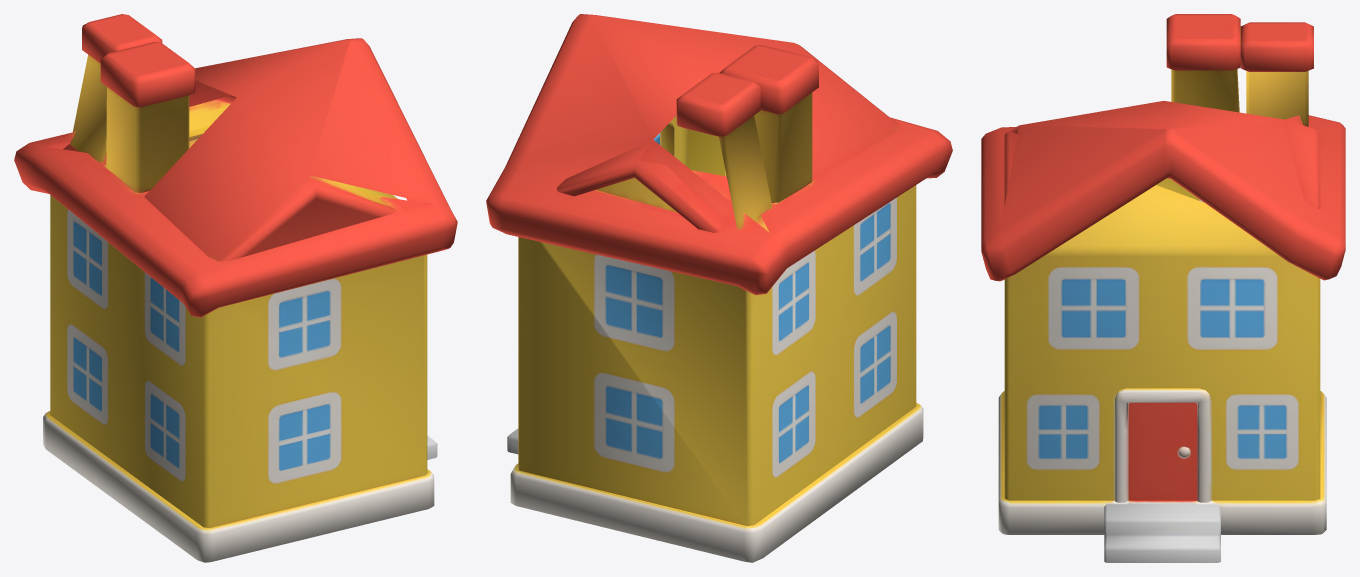
The model's file is house.glb.
The picture shows the model from 3 angles, left to right: view 1: azimuth 30°, elevation 25°; view 2: azimuth 150°, elevation 25°; view 3: azimuth 270°, elevation 25°; orthographic projection. The views are drawn at different scales.
Parts seen in each view (by area): view 1: tripo_node_265a9b85-95d6-4634-a093-464790f351dc; view 2: tripo_node_265a9b85-95d6-4634-a093-464790f351dc; view 3: tripo_node_265a9b85-95d6-4634-a093-464790f351dc.
Part boxes in pixels (bbox=[...]): tripo_node_265a9b85-95d6-4634-a093-464790f351dc: bbox=[14, 14, 457, 562]; tripo_node_265a9b85-95d6-4634-a093-464790f351dc: bbox=[486, 14, 952, 562]; tripo_node_265a9b85-95d6-4634-a093-464790f351dc: bbox=[981, 14, 1345, 562].
Size of the model in its own units: 0.7637 by 0.998 by 0.7871.
1 material, 1 textured.
